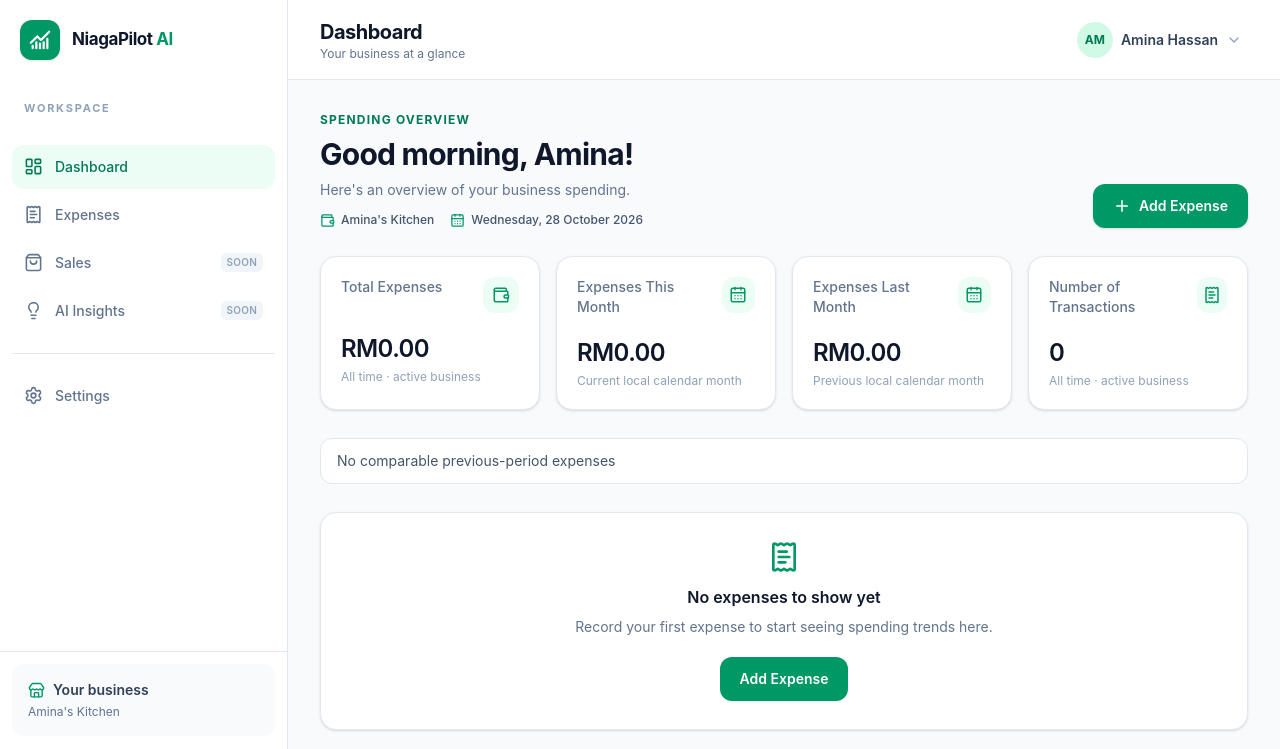
Test: business routes › opens the existing expense form from the dashboard Add Expense action
This screenshot has width=1280, height=749.
Click the link "Add Expense" in the row of "Wednesday, 28 October 2026" at point(1170, 206), box [1093,184,1248,228]
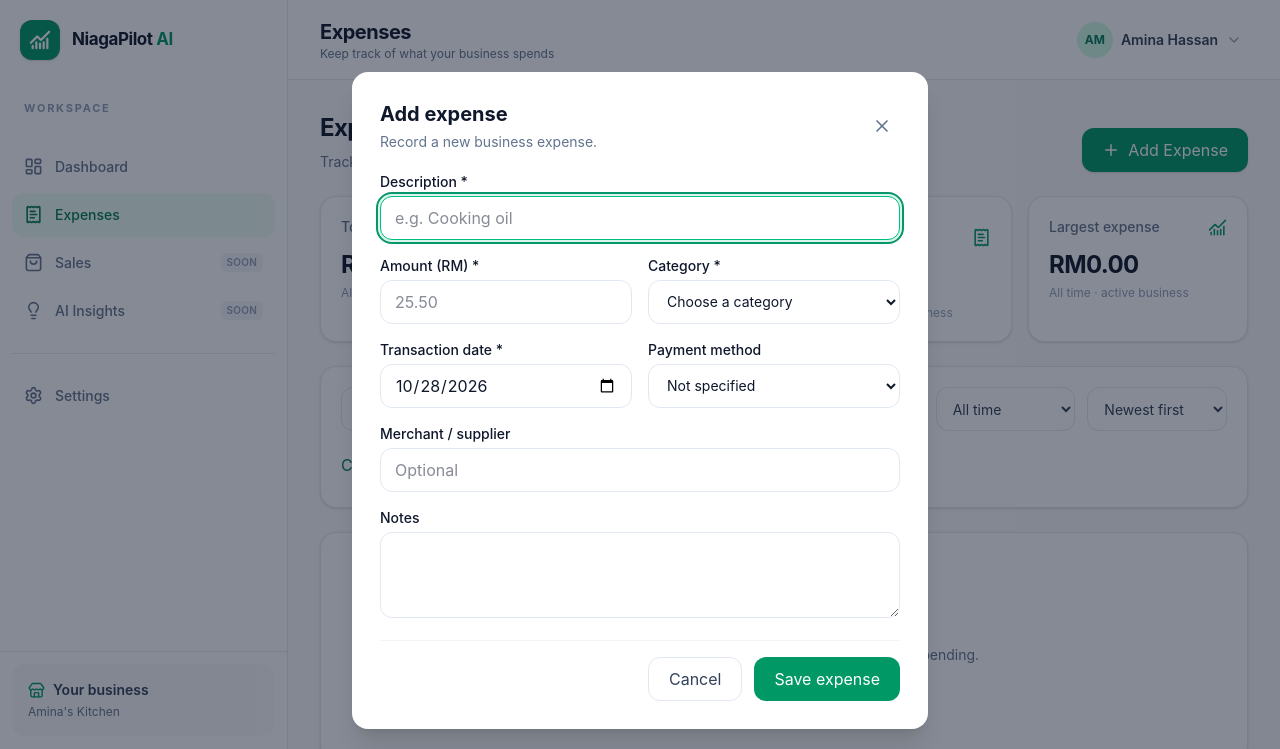
Expected: the dialog "Add expense" is shown, [352,72,928,728]
